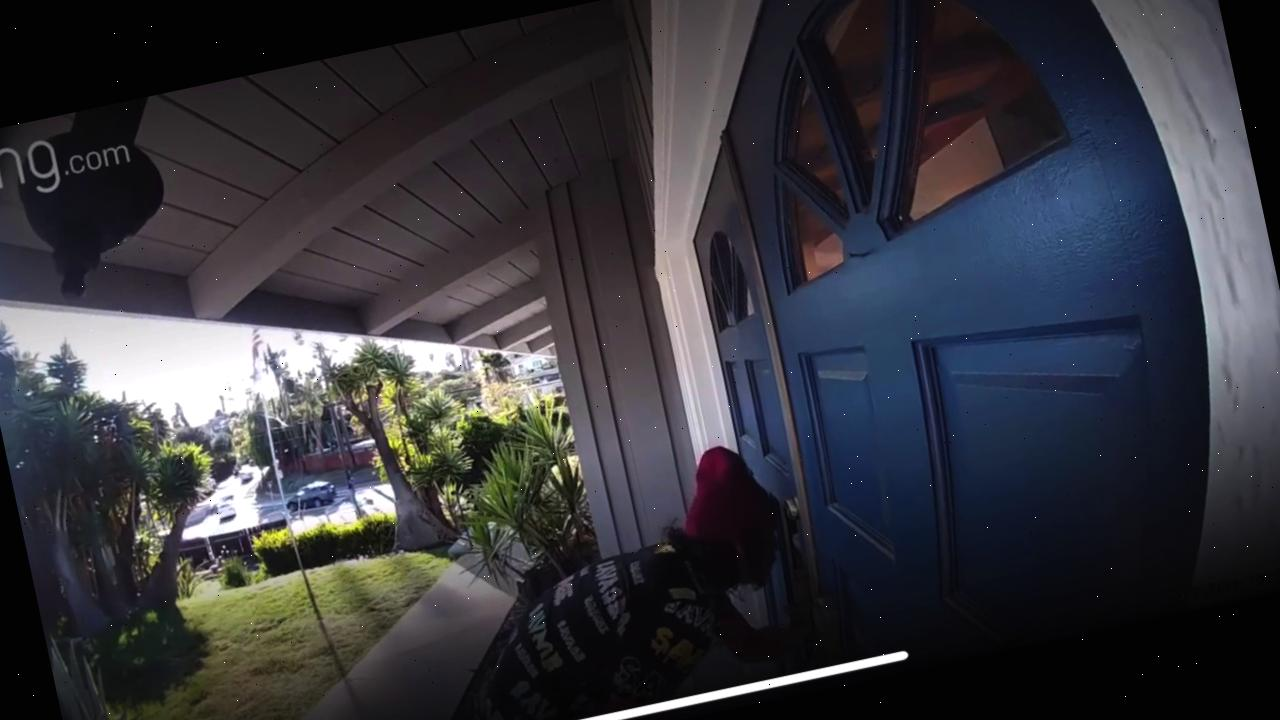suspicion: (392, 399, 863, 720)
